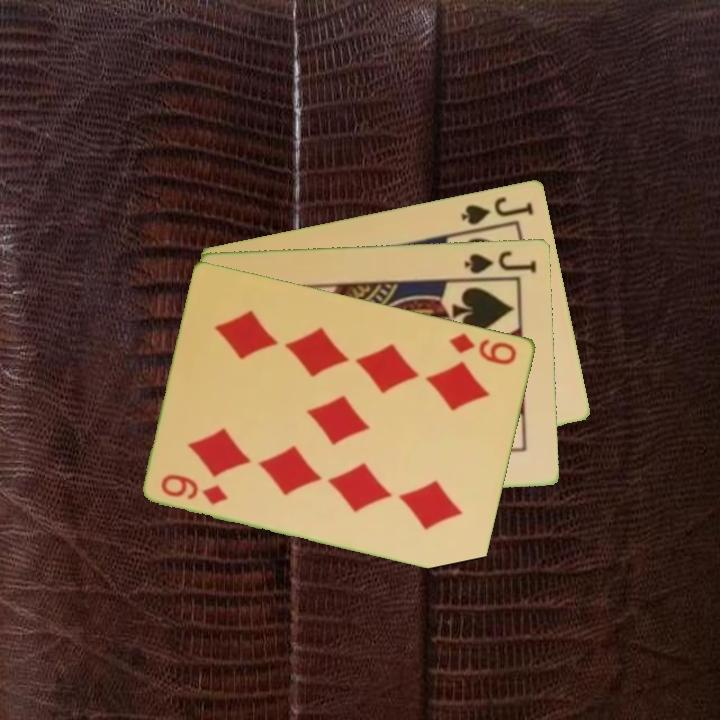9d: (446, 329, 520, 368), (157, 470, 231, 508)
Js: (457, 192, 537, 228), (461, 247, 540, 277)
